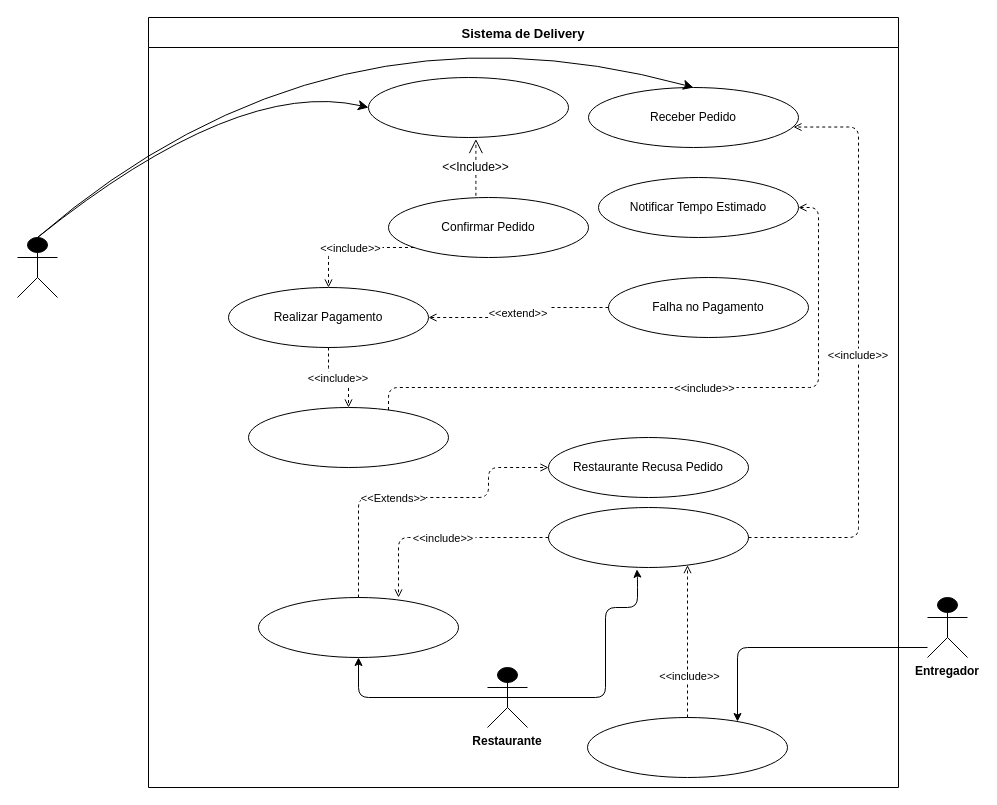
The diagram is 997 pixels wide and 805 high, and some of its shapes have lost their labels. Here are the shapes that lost their labels. From the top down, the centre of each, then its label:
At (468,107): "Selecionar Produtos".
At (37,267): "Cliente".
At (348,437): "Enviar Pedido ao Restaurante".
At (648,537): "Preparar Pedido".
At (687,747): "Realizar Entrega".
